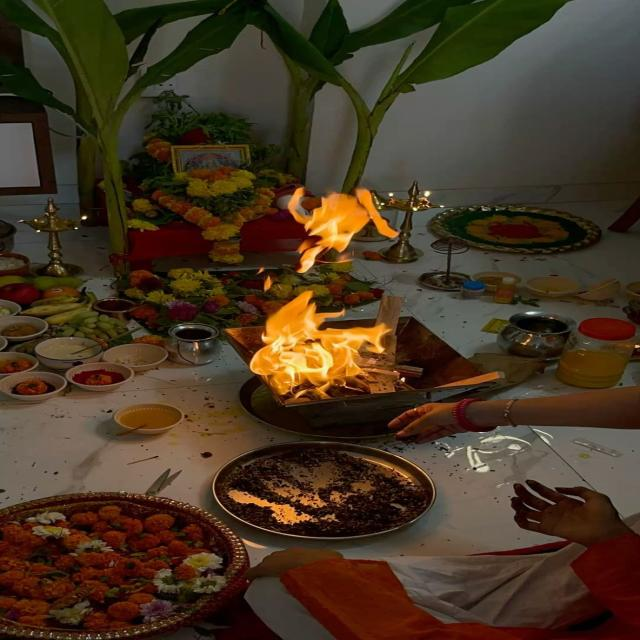fire: (250, 289, 394, 395), (285, 185, 399, 273)
